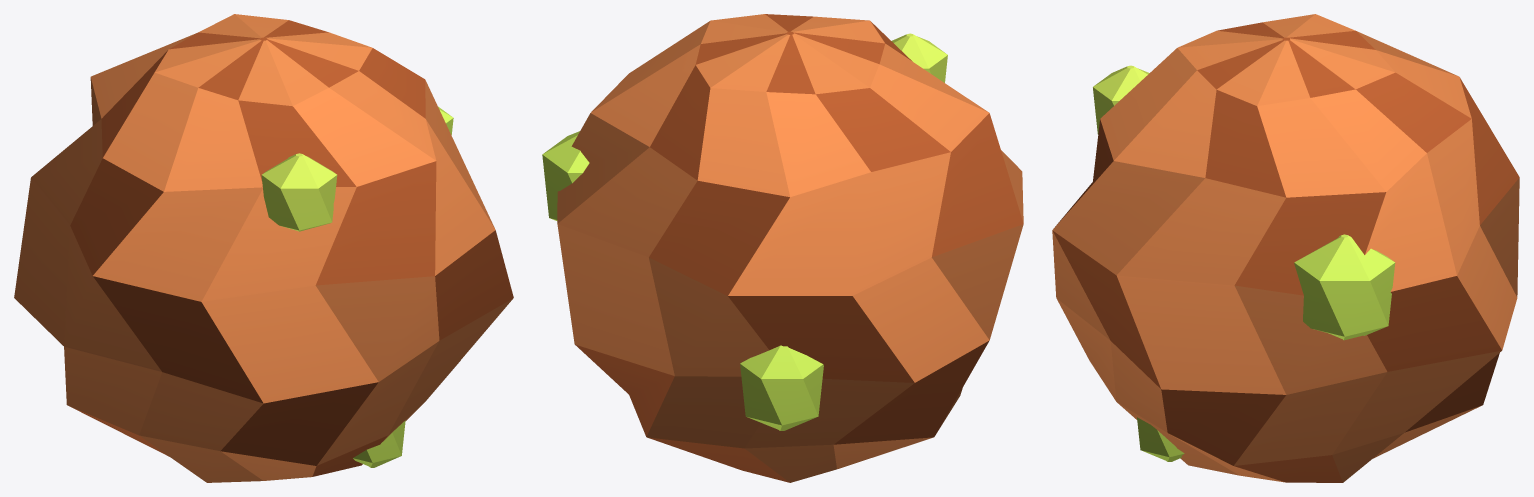
The model's file is MortarSpore.fbx.
3 views of the same model, side by side, from view 1: azimuth 30°, elevation 25°; view 2: azimuth 150°, elevation 25°; view 3: azimuth 270°, elevation 25° (orthographic).
Parts seen in each view (by area): view 1: Pod, Spots; view 2: Pod, Spots; view 3: Pod, Spots.
Part boxes in pixels (x1=…): Pod: x1=14, y1=14, x2=513, y2=482; Spots: x1=261, y1=106, x2=453, y2=467; Pod: x1=557, y1=14, x2=1023, y2=482; Spots: x1=542, y1=33, x2=947, y2=430; Pod: x1=1052, y1=14, x2=1519, y2=482; Spots: x1=1093, y1=65, x2=1395, y2=461.
Bounding box in the file's own units: 0.4922 × 0.48 × 0.4804.
2 materials, 2 textured.
